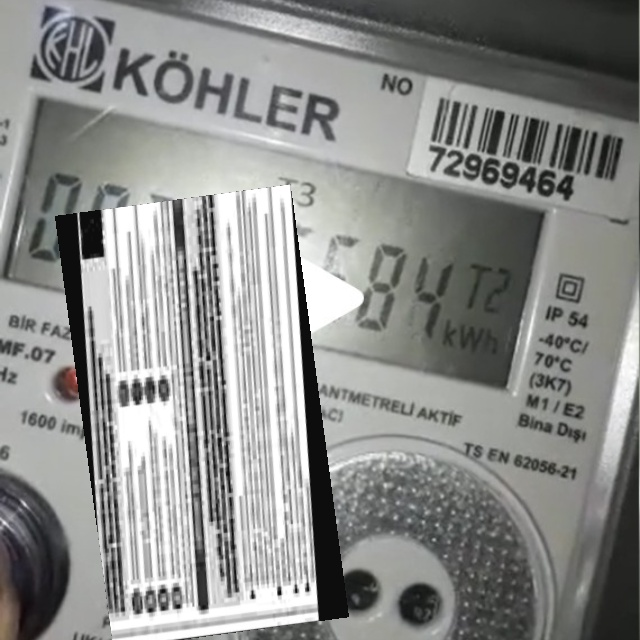electricity-bill: (55, 184, 349, 640)
